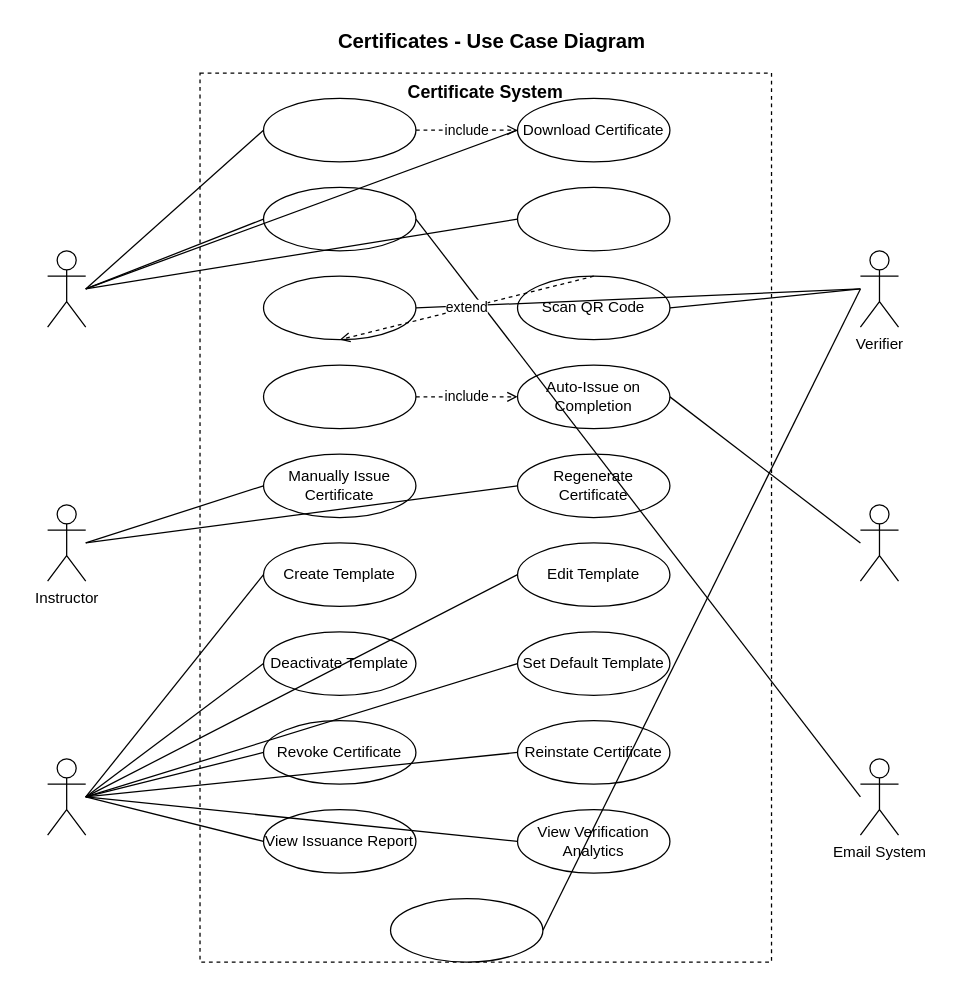
This 954x984 diagram has some shape labels left out. Each missing label, with the centre of its shape:
Administrator: (66,796)
Batch Verify: (466,929)
Course System: (879,542)
Email Certificate: (339,218)
Issue Certificate: (339,396)
Share to Social Media: (593,218)
Student: (66,288)
Verify Certificate: (339,307)
View My Certificates: (339,129)
